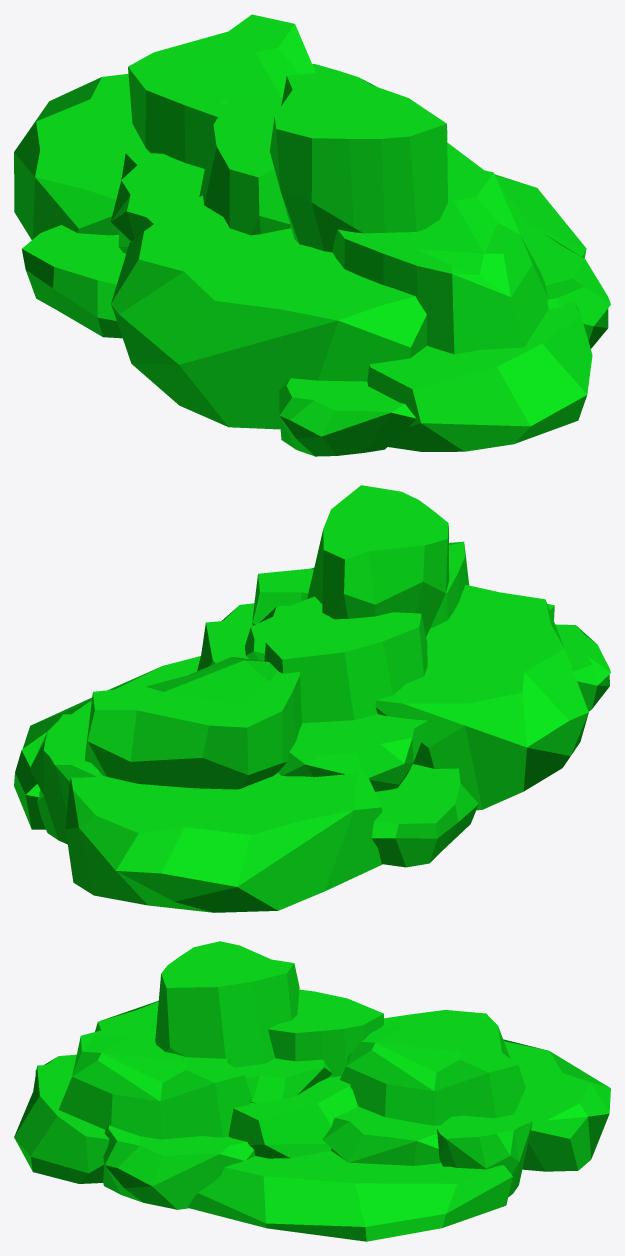
Rendered from SM_QuarryRocks2.fbx.
3 views of the same model, one above another, from view 1: azimuth 30°, elevation 25°; view 2: azimuth 150°, elevation 25°; view 3: azimuth 270°, elevation 25° (orthographic). The views are drawn at different scales.
Visible parts, largest first — view 1: SM_QuarryRocks2; view 2: SM_QuarryRocks2; view 3: SM_QuarryRocks2.
Boxes of the visible parts, left/top/right/bottom form: SM_QuarryRocks2: left=14, top=14, right=610, bottom=456; SM_QuarryRocks2: left=14, top=485, right=610, bottom=912; SM_QuarryRocks2: left=14, top=941, right=610, bottom=1241.
Bounding box in the file's own units: 1492 × 670 × 2102.
